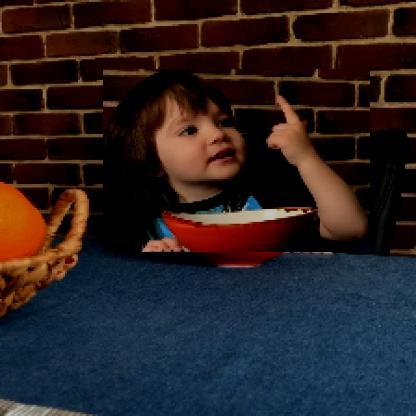child: (104, 71, 372, 255)
